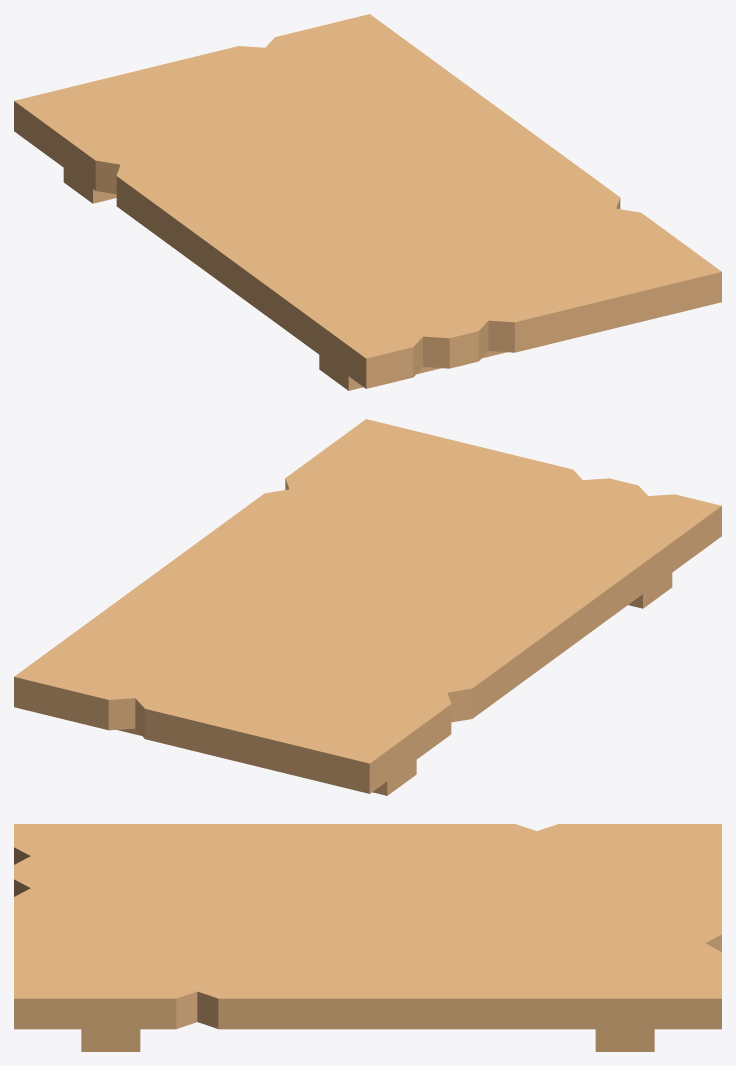
The model's file is cuttingBoardJapanese.fbx.
The picture shows the model from 3 angles, top to bottom: view 1: azimuth 30°, elevation 25°; view 2: azimuth 150°, elevation 25°; view 3: azimuth 270°, elevation 25°; orthographic projection.
Parts seen in each view (by area): view 1: cuttingBoardJapanese; view 2: cuttingBoardJapanese; view 3: cuttingBoardJapanese.
Part boxes in pixels (box(x1,y1,x2,y2)): cuttingBoardJapanese: box(14, 14, 721, 390); cuttingBoardJapanese: box(14, 419, 721, 795); cuttingBoardJapanese: box(14, 824, 721, 1051).
Size of the model in its own units: 4.9 by 0.8 by 8.4.
